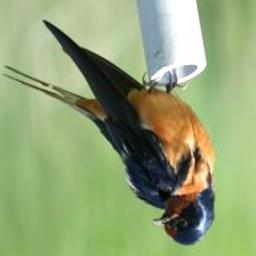Swallow: (2, 24, 218, 250)
